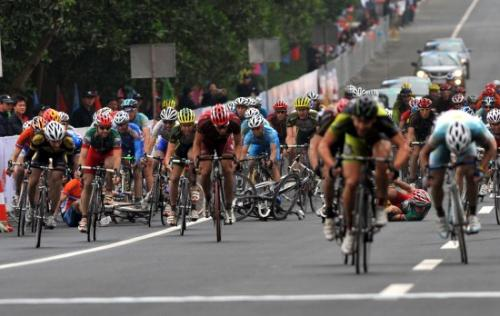10+: (1, 2, 500, 257)
down: (372, 175, 434, 225), (58, 173, 93, 228)
